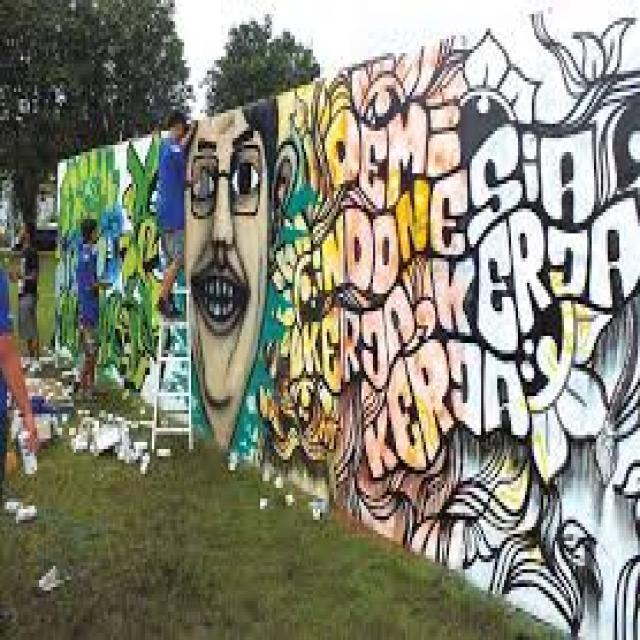-: (56, 15, 640, 640)
